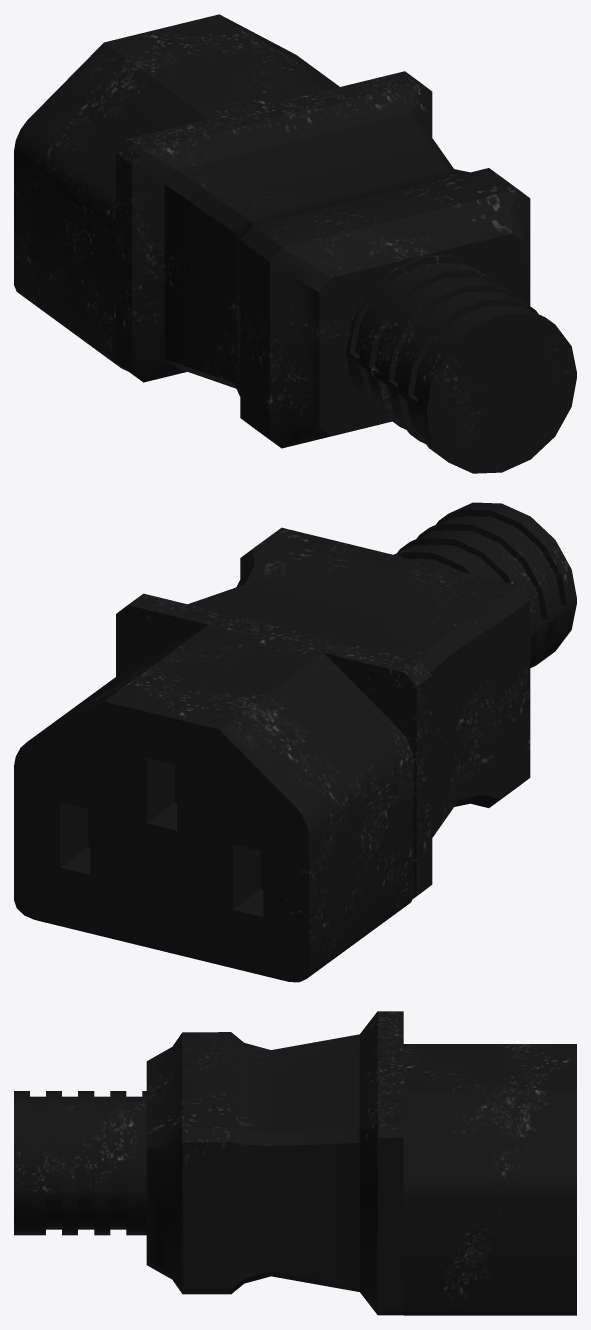
The model's file is Kabel Power 2.fbx.
3 renders of one model, top to bottom at view 1: azimuth 30°, elevation 25°; view 2: azimuth 150°, elevation 25°; view 3: azimuth 270°, elevation 25°, orthographic. The views are drawn at different scales.
Parts seen in each view (by area): view 1: Cube, Cube.001, Cylinder; view 2: Cube.001, Cube, Cylinder; view 3: Cube, Cube.001, Cylinder.
Part boxes in pixels (x1=…): Cube: x1=116, y1=71, x2=530, y2=448; Cube.001: x1=14, y1=14, x2=339, y2=371; Cylinder: x1=346, y1=254, x2=576, y2=473; Cube.001: x1=14, y1=625, x2=413, y2=982; Cube: x1=116, y1=527, x2=530, y2=898; Cylinder: x1=393, y1=502, x2=576, y2=667; Cube: x1=146, y1=1011, x2=403, y2=1315; Cube.001: x1=403, y1=1044, x2=576, y2=1315; Cylinder: x1=14, y1=1091, x2=146, y2=1235.
Size of the model in its own units: 6.95 by 5.2 by 13.63.
1 material, 1 textured.
